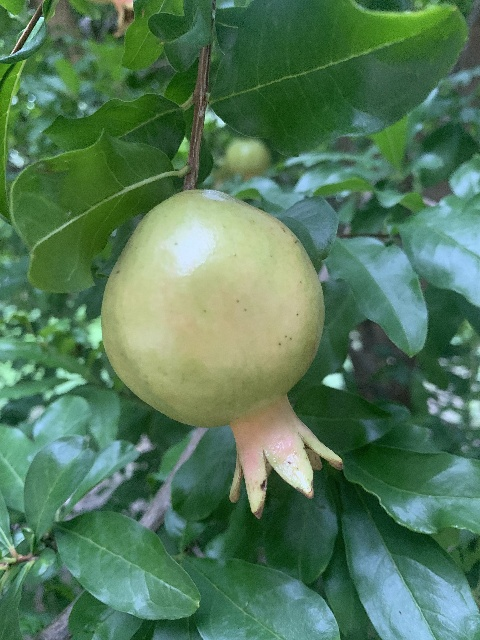mid-growth: (100, 190, 340, 519), (214, 137, 272, 183)
